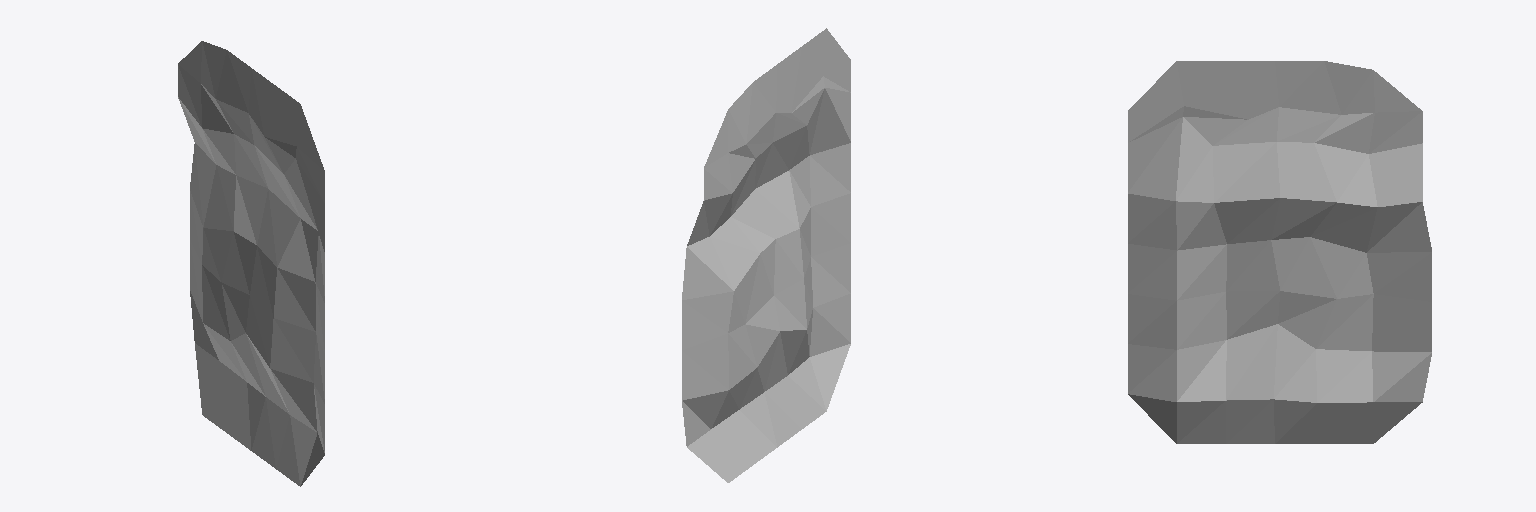
File: snowgate.obj
3 renders of one model, left to right at view 1: azimuth 30°, elevation 25°; view 2: azimuth 150°, elevation 25°; view 3: azimuth 270°, elevation 25°, orthographic.
Visible parts, largest first — view 1: Plane; view 2: Plane; view 3: Plane.
Part boxes in pixels (left/top/right/bottom): Plane: left=178, top=41, right=324, bottom=486; Plane: left=682, top=28, right=850, bottom=482; Plane: left=1128, top=61, right=1431, bottom=443.
Size of the model in its own units: 0.2934 by 4.3 by 3.1.